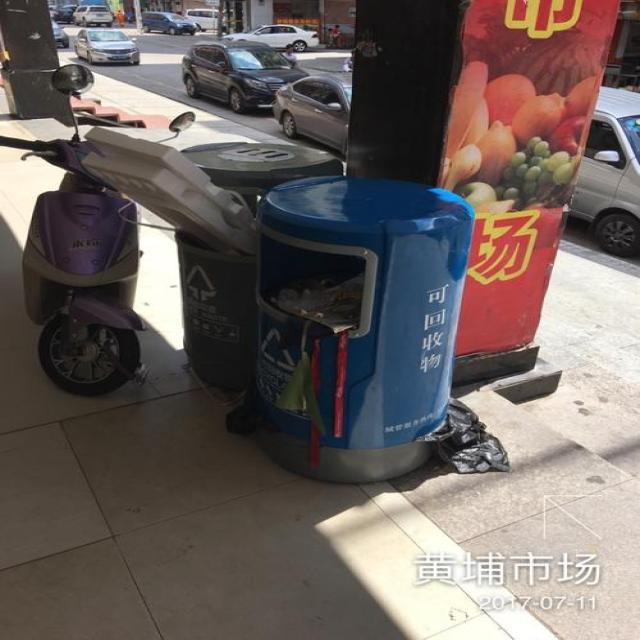garbage: (415, 398, 507, 472)
overflow: (79, 127, 470, 480)
